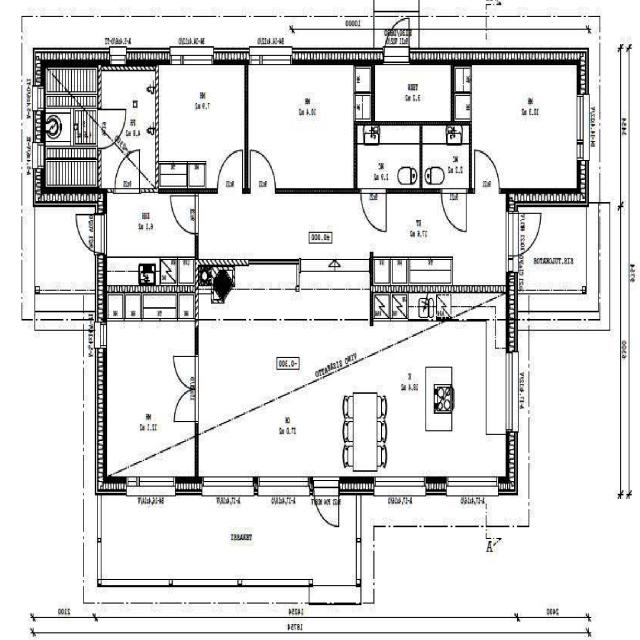door: (506, 213, 545, 256), (70, 215, 107, 253), (314, 477, 339, 533), (384, 8, 409, 64), (97, 109, 127, 148), (217, 150, 243, 193), (361, 188, 386, 232), (250, 150, 275, 193), (442, 188, 467, 231), (115, 150, 140, 193), (475, 151, 499, 193), (171, 196, 198, 233), (174, 356, 198, 389), (174, 389, 198, 421)
